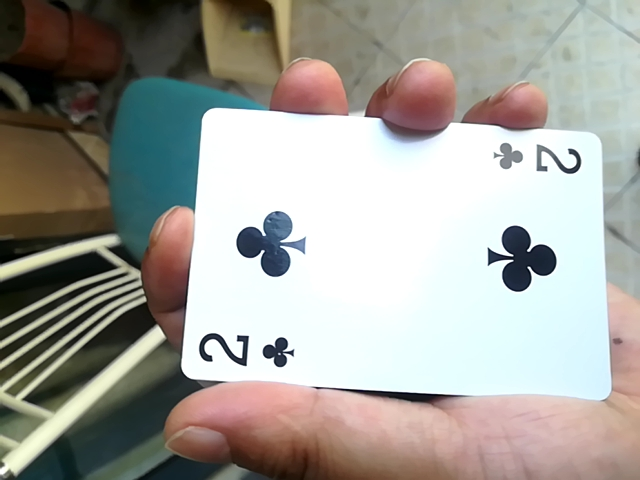mh 2: (164, 103, 603, 393)
